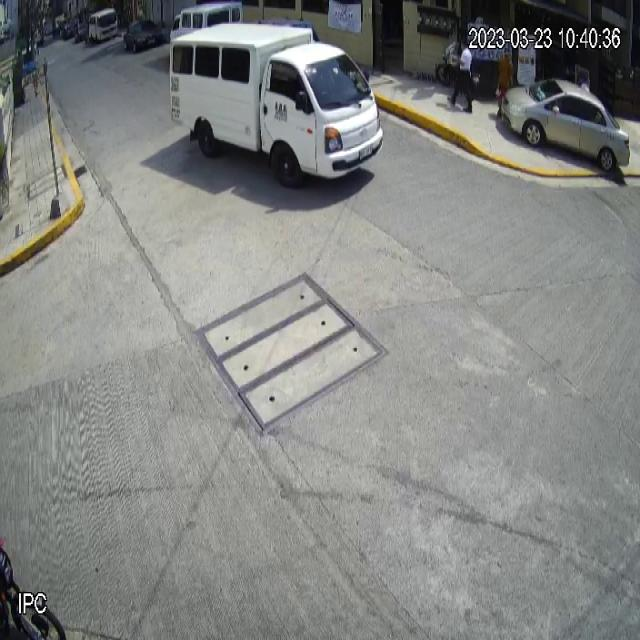Car: (500, 76, 632, 175)
Van: (170, 19, 383, 189)
